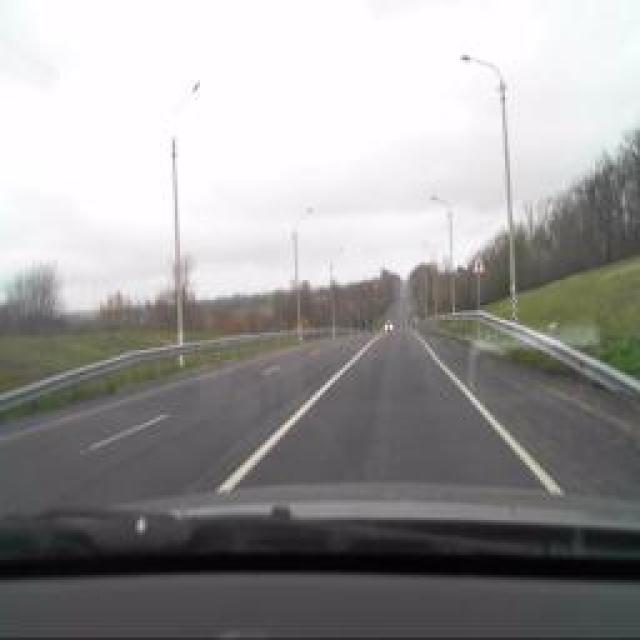sign: (471, 255, 484, 273)
